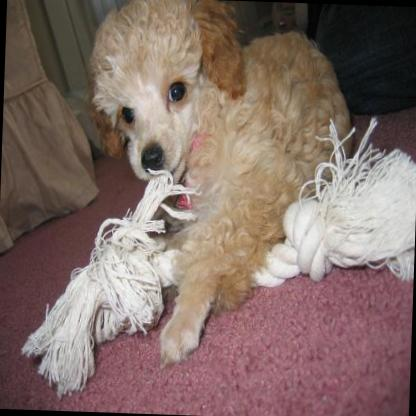toy_poodle: (73, 0, 357, 375)
